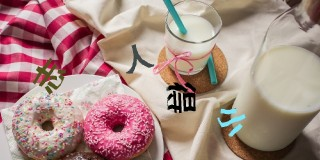人: (125, 44, 156, 74)
小: (217, 107, 246, 137)
得: (166, 82, 198, 114)
志: (32, 58, 68, 94)
